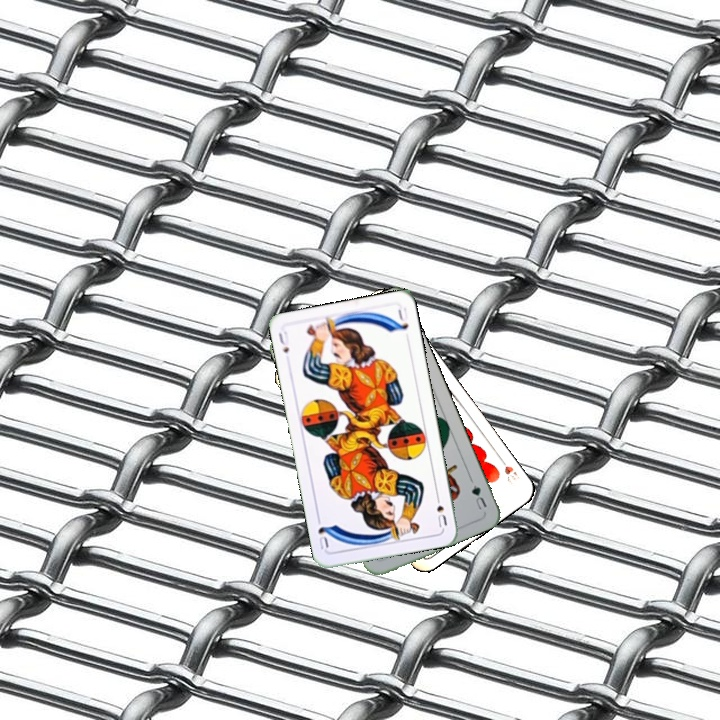GU: (467, 481, 489, 513)
H10: (495, 453, 521, 487)
SU: (432, 490, 450, 530), (274, 327, 292, 356)
